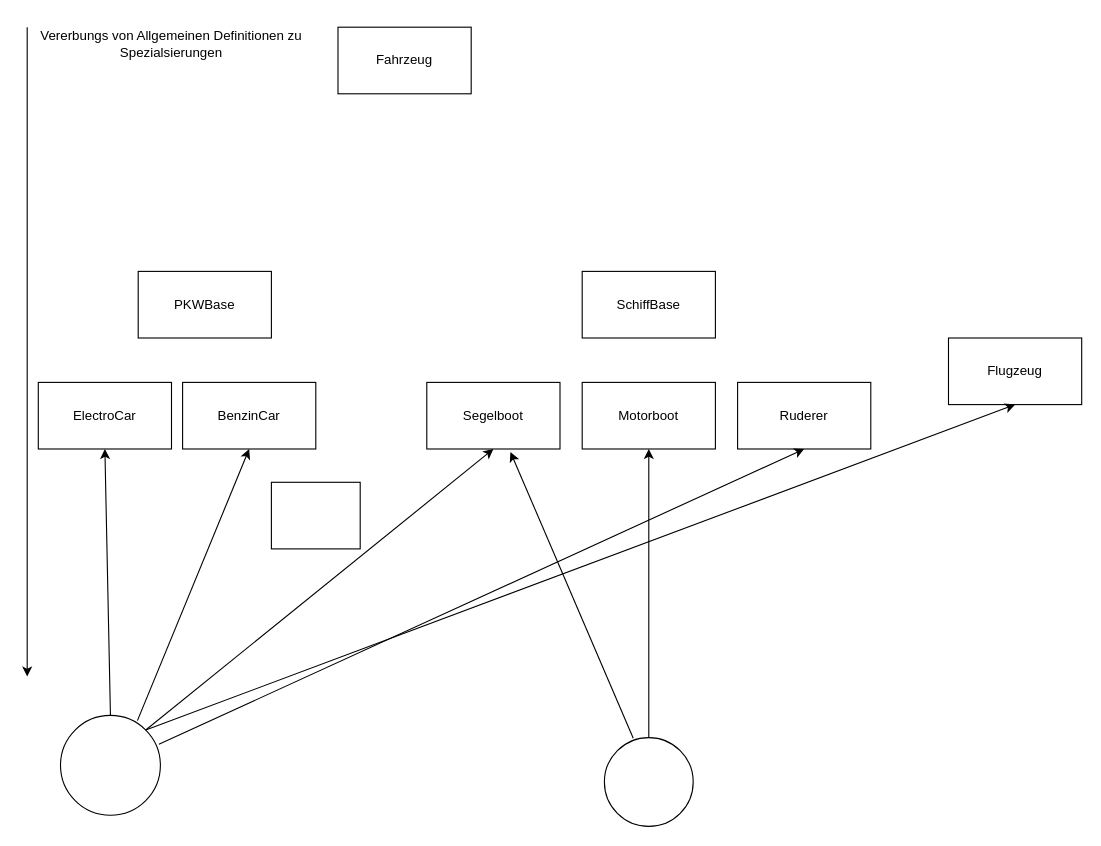
Some shapes in this 1101 by 846 pixel diagram are drawn without their labels. Here are the shapes that lost their labels. From the top down, the centre of each, then its label:
point (315, 515): BobbyCar
point (109, 764): I18DriveLizenz
point (648, 781): IBeladbar
